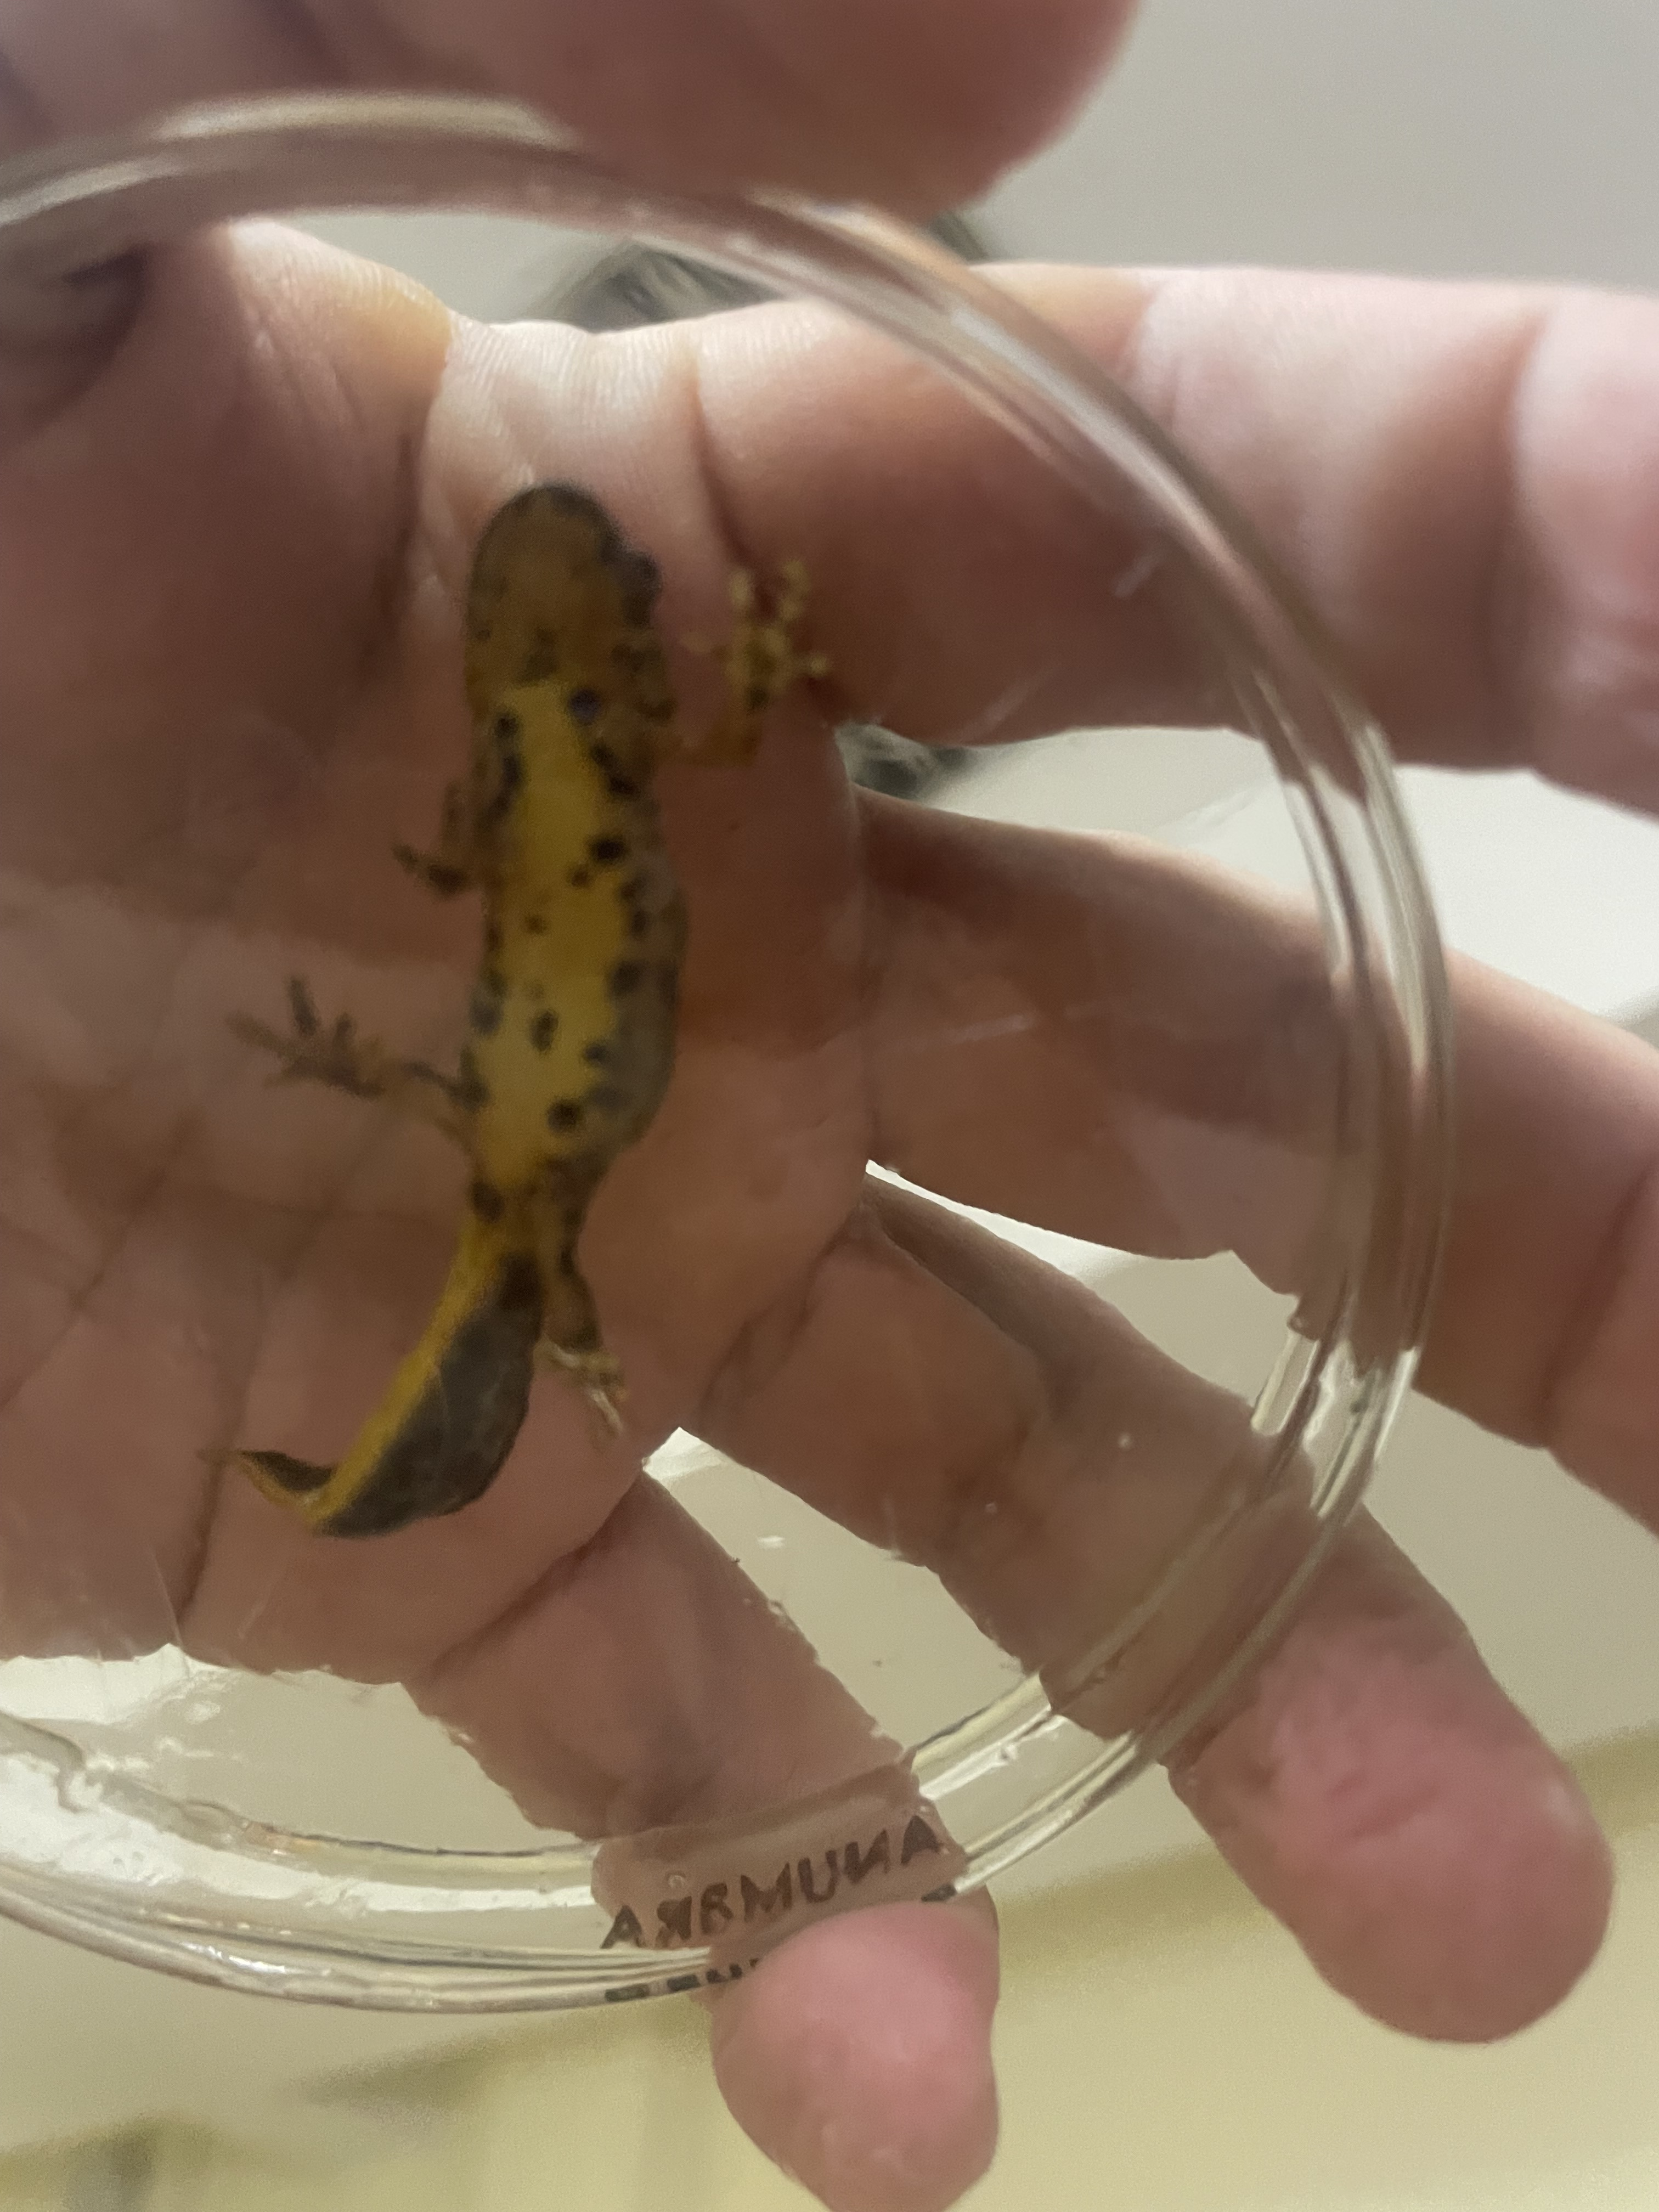Karelin_newt: (458, 768, 690, 1204)
